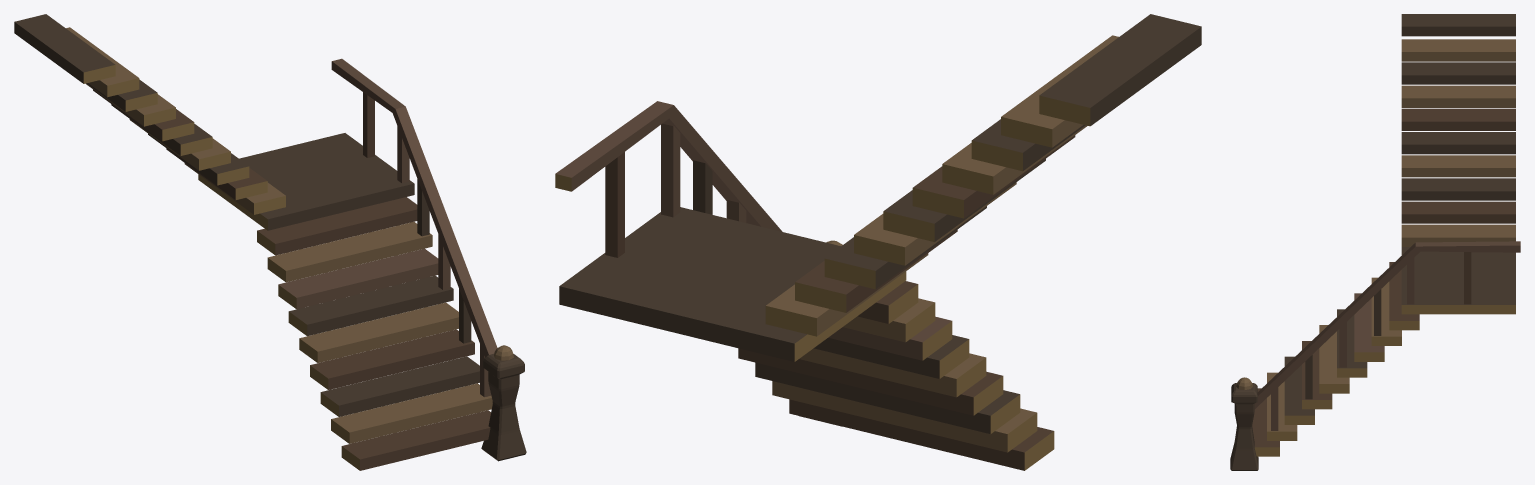
File: Stair_2A_4m.fbx
3 renders of one model, left to right at view 1: azimuth 30°, elevation 25°; view 2: azimuth 150°, elevation 25°; view 3: azimuth 270°, elevation 25°, orthographic. The views are drawn at different scales.
Parts seen in each view (by area): view 1: pCube2009_polySurface2794; view 2: pCube2009_polySurface2794; view 3: pCube2009_polySurface2794.
Part boxes in pixels (x1,y1,x2,y2): pCube2009_polySurface2794: (14,14,526,470); pCube2009_polySurface2794: (555,14,1201,470); pCube2009_polySurface2794: (1230,14,1520,470).
Size of the model in its own units: 371 by 406 by 333.
